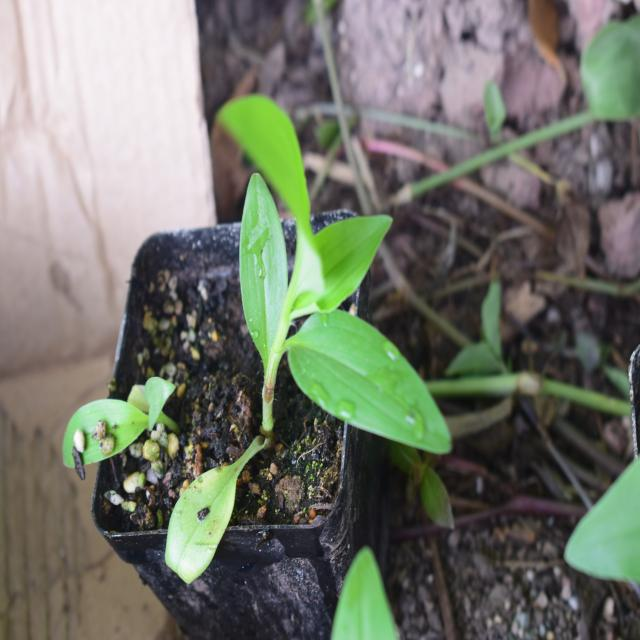Common Dayflower: (209, 93, 457, 484)
